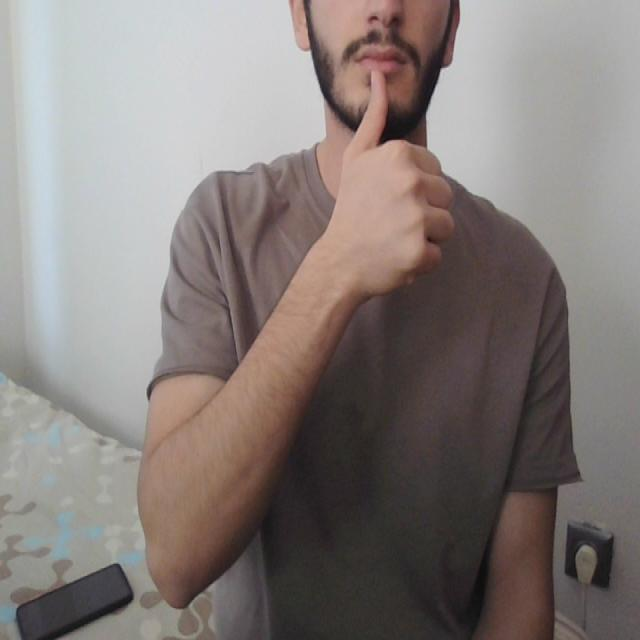Baba: (347, 25, 405, 129)
